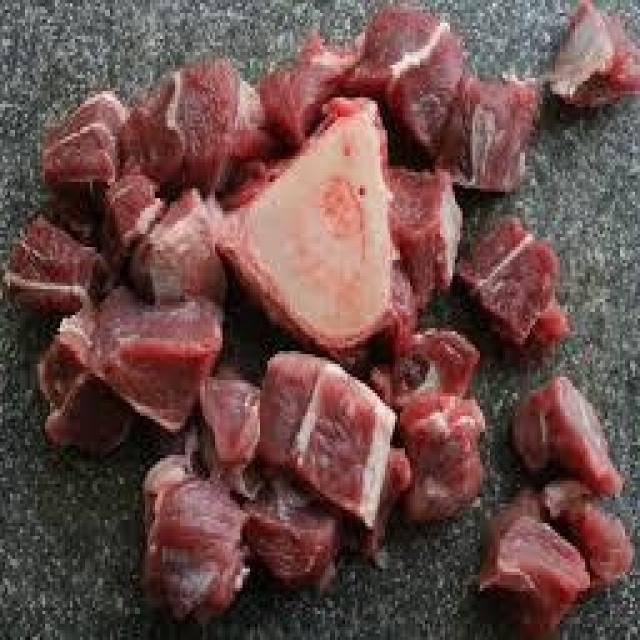Beef: (230, 113, 429, 350)
